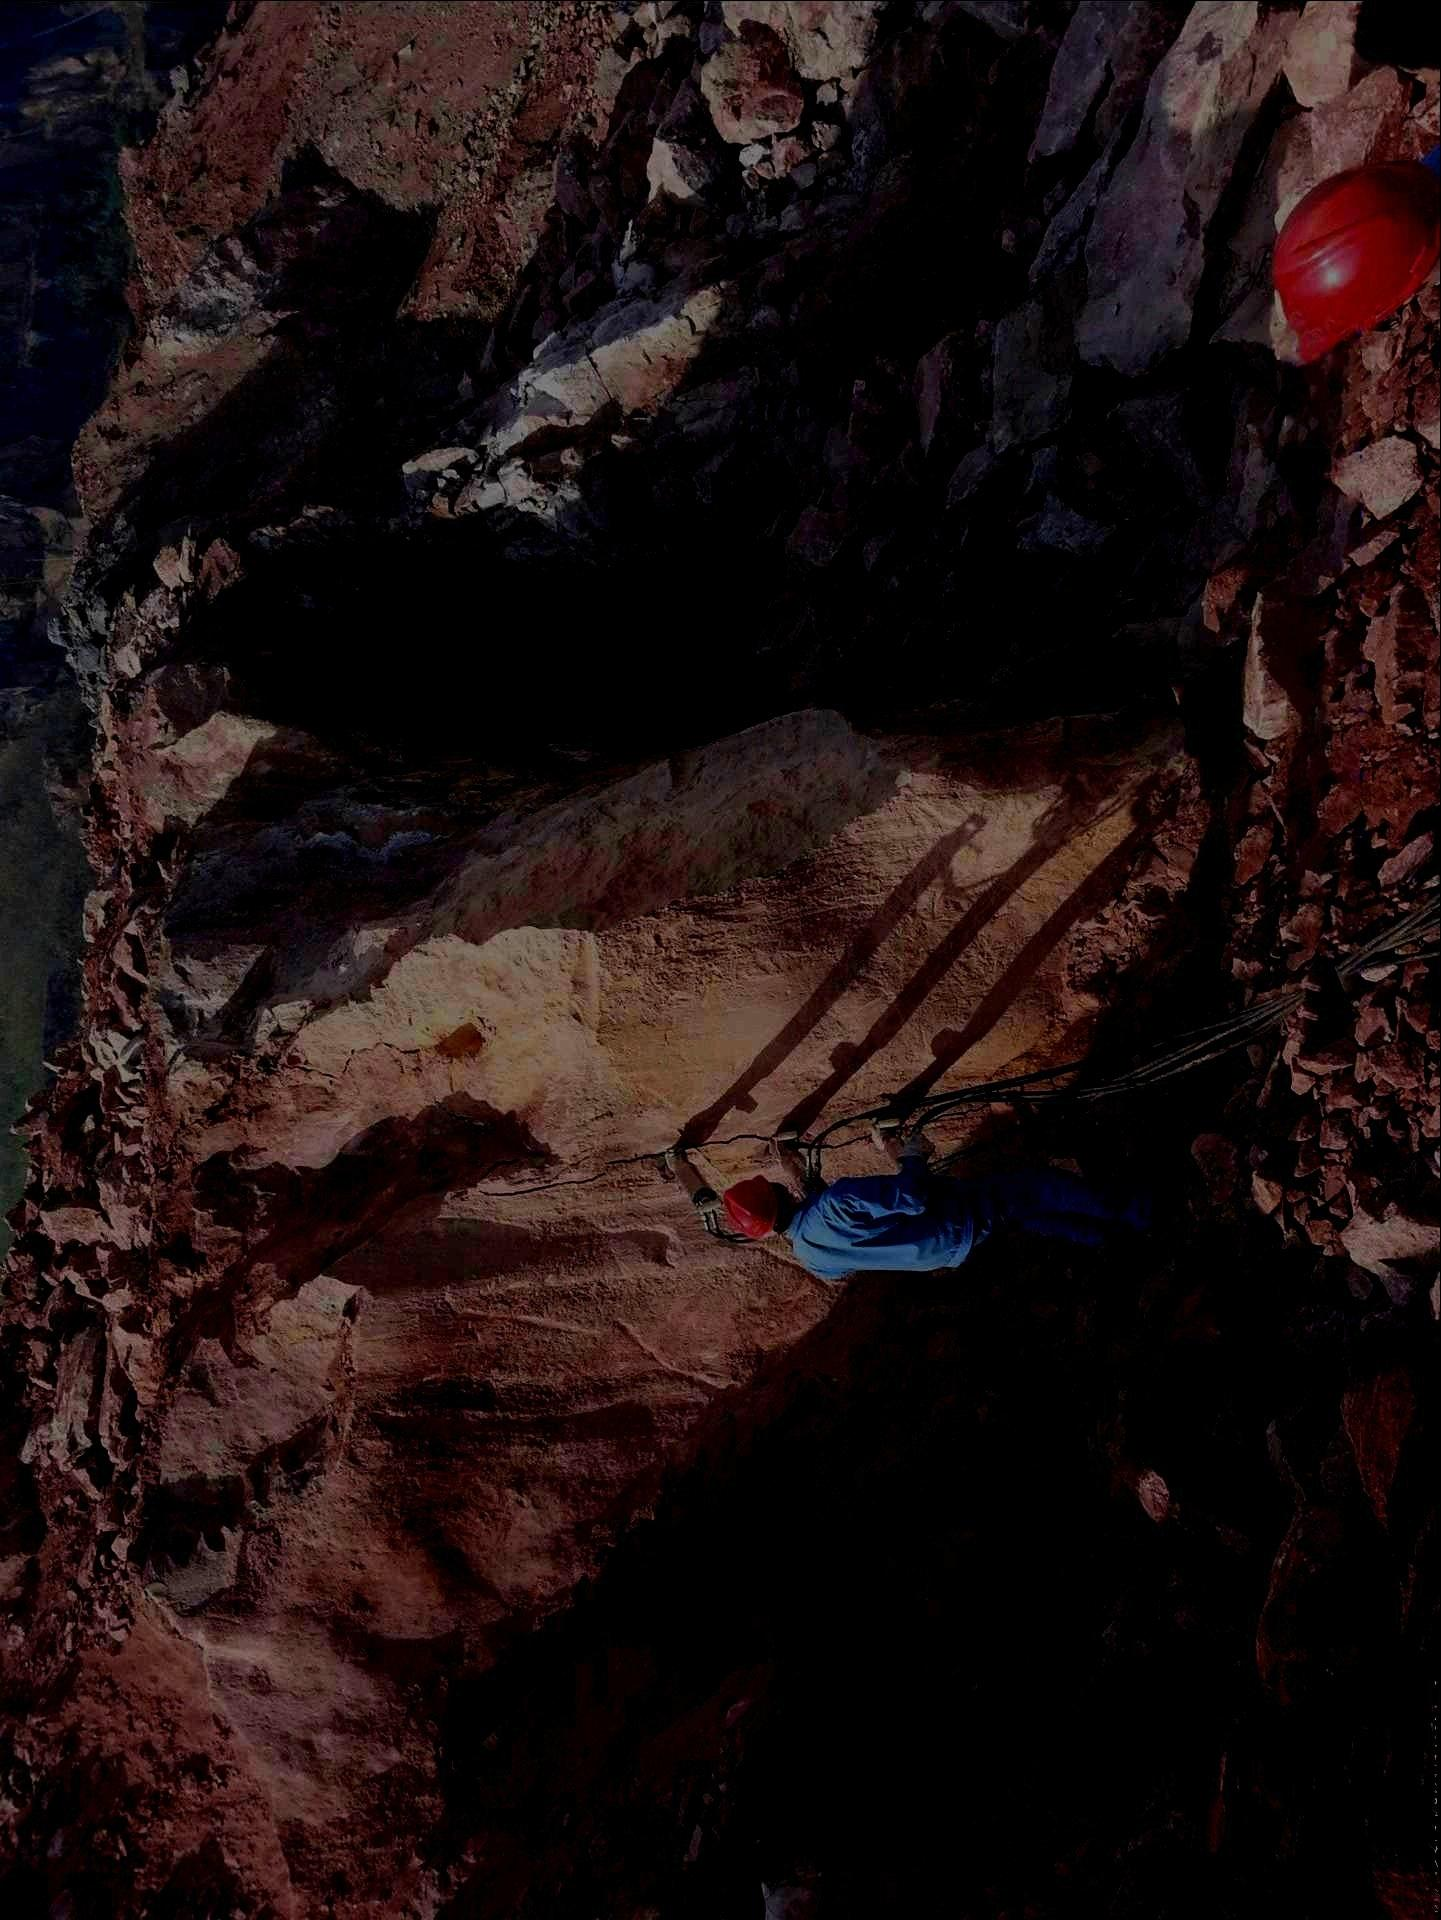helmet: (1271, 159, 1441, 363), (720, 1174, 795, 1241)
